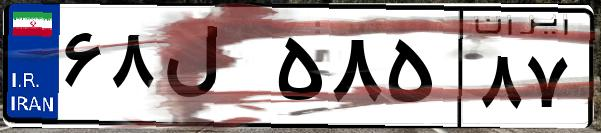5: (270, 28, 330, 110), (385, 28, 445, 110)
6: (57, 26, 110, 100)
7: (525, 38, 570, 115)
8: (330, 28, 385, 110), (475, 38, 525, 113), (110, 28, 158, 98)
ل: (158, 20, 270, 120)
